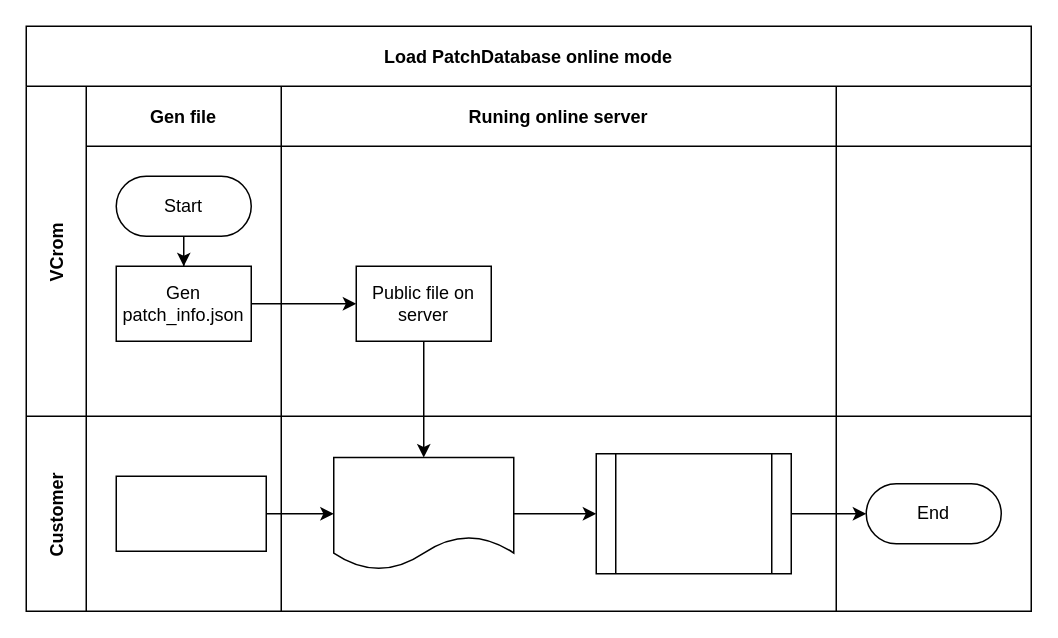
The diagram is 1058 pixels wide and 638 high, and some of its shapes have lost their labels. The shapes that lost their labels are listed below. From the top down, each one's box as (x1, y1, x2, y2) in pixels, then its label:
(115, 475, 266, 551): Get latest SDK
(332, 456, 514, 570): Call LoadPatchDatabase online mode
(595, 452, 791, 574): Vmod read the file and display the infomation
